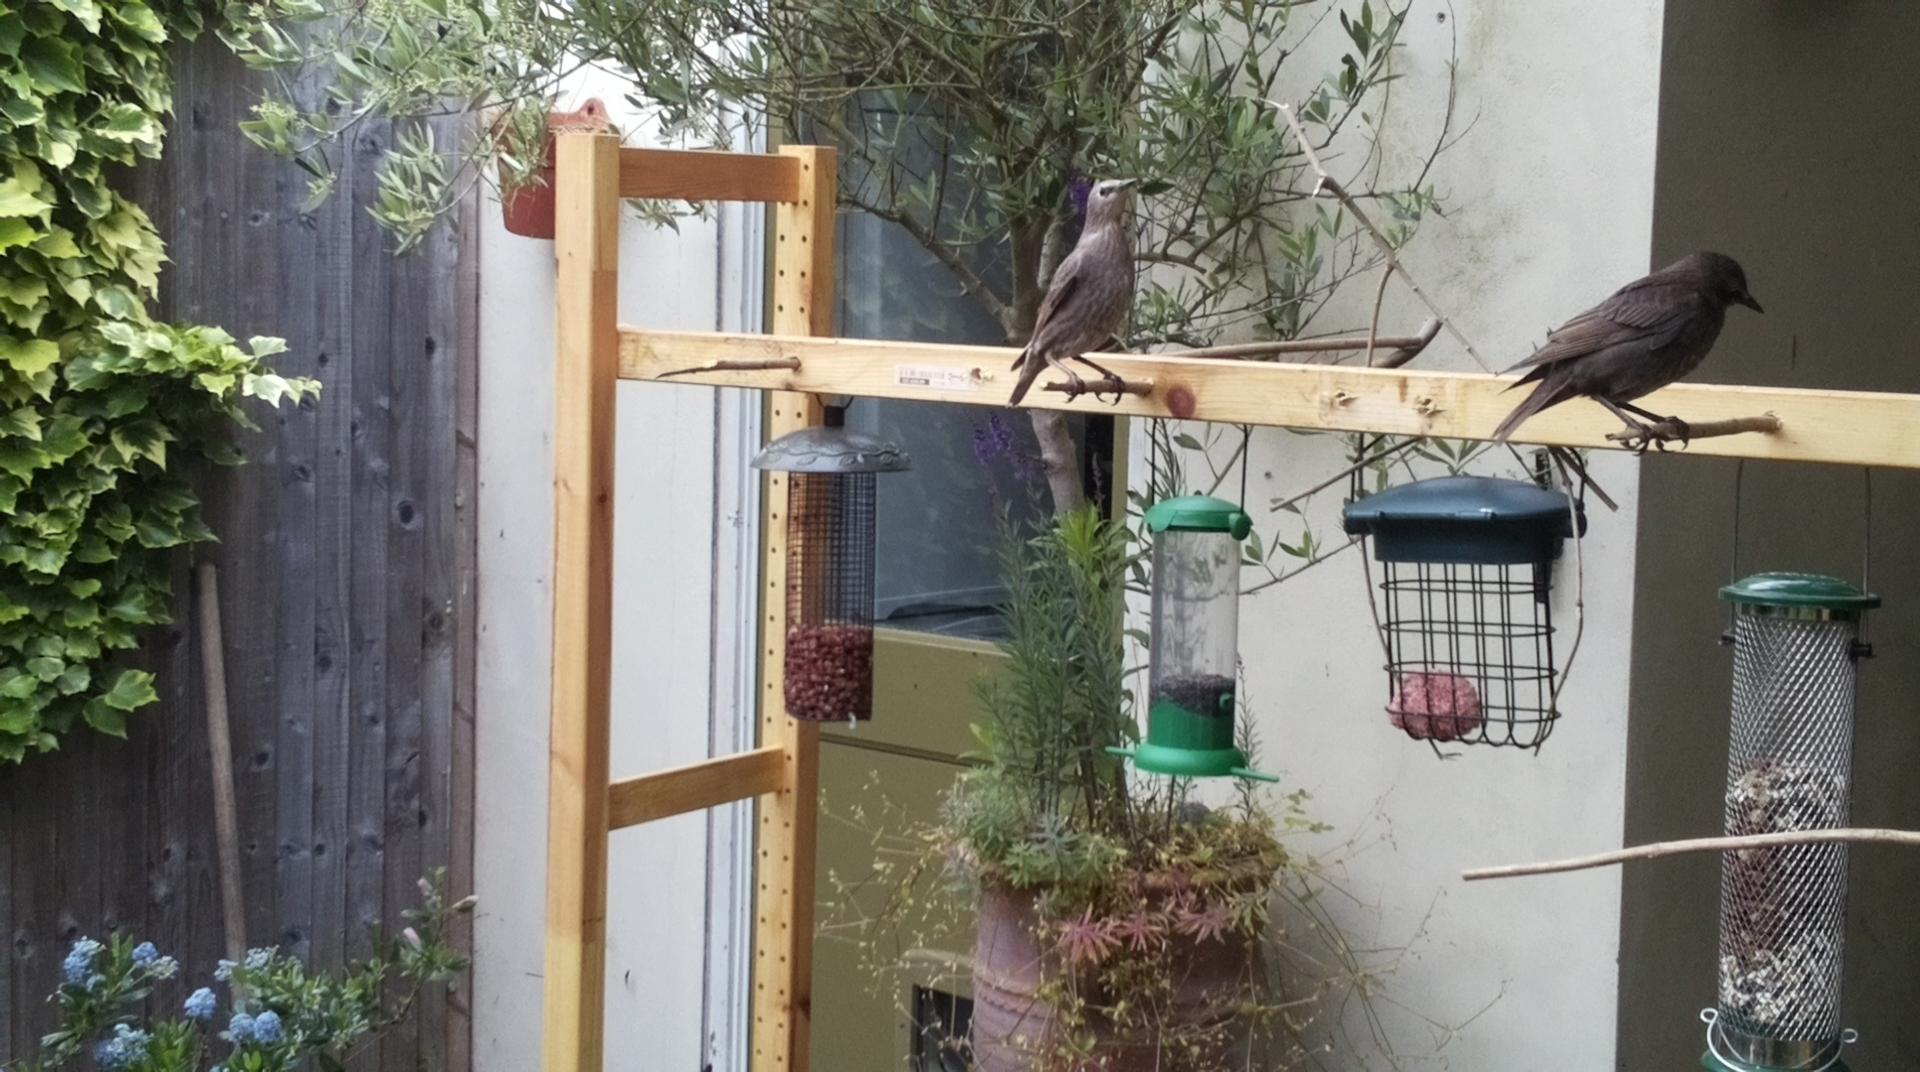starling: (1491, 249, 1766, 456), (1009, 175, 1139, 407)
